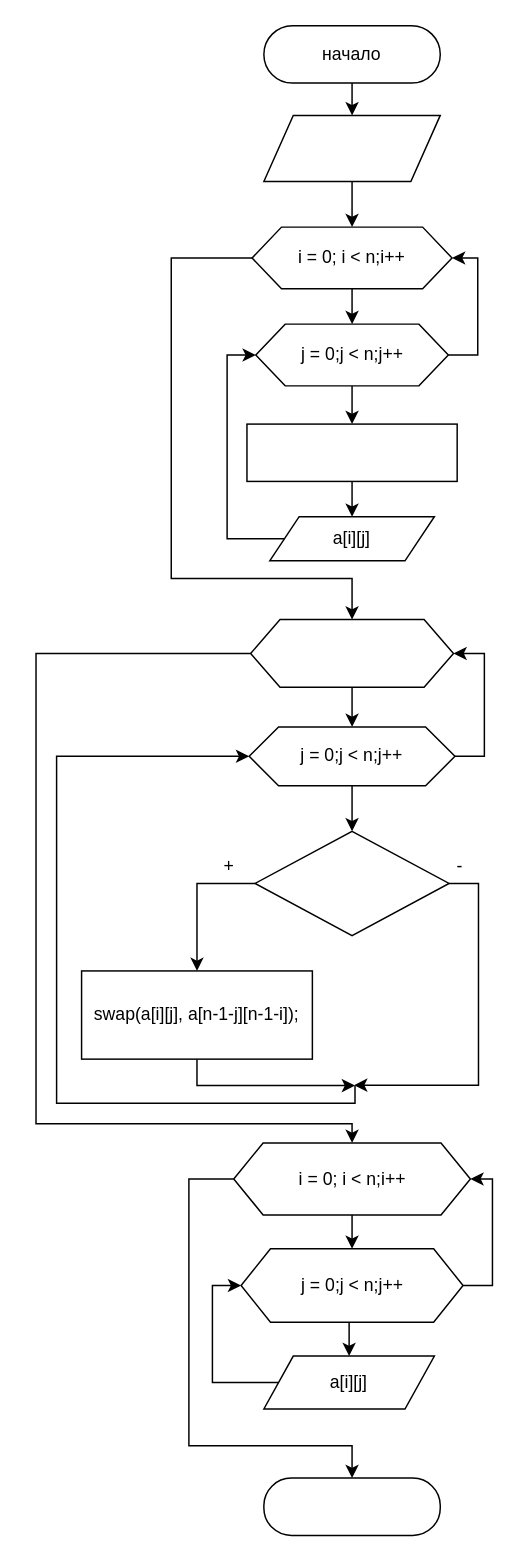
The diagram is 531 pixels wide and 1561 high, and some of its shapes have lost their labels. Each missing label, with the box of its shape:
a[i][j] = rand() % 20 - 10;: (245, 423, 457, 481)
i <= n - 1 - j: (254, 830, 449, 936)
i = 0;i < n;i++: (249, 618, 453, 687)
ввод n: (262, 114, 440, 182)
конец: (262, 1477, 440, 1535)
